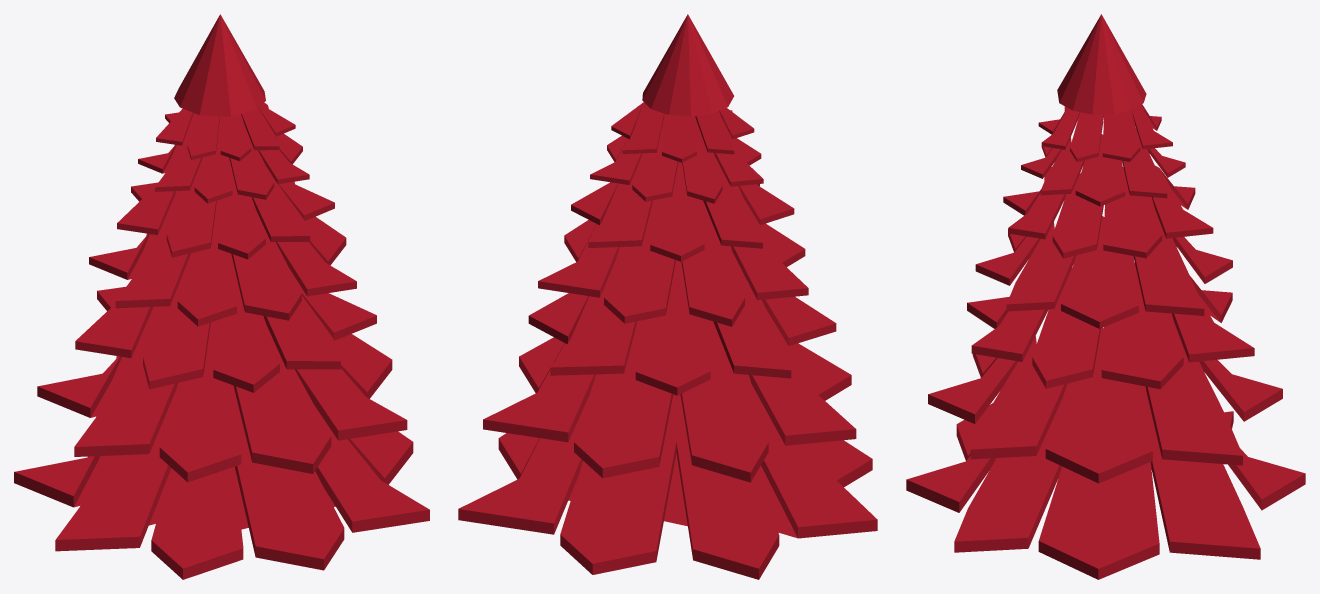
Rendered from tree-dead-leaves-031.glb.
The picture shows the model from 3 angles, left to right: view 1: azimuth 30°, elevation 25°; view 2: azimuth 150°, elevation 25°; view 3: azimuth 270°, elevation 25°; orthographic projection. The views are drawn at different scales.
Visible parts, largest first — view 1: Plane.087_476; view 2: Plane.087_476; view 3: Plane.087_476.
Part boxes in pixels (x1,y1,x2,y2): Plane.087_476: (14,14,429,579); Plane.087_476: (458,14,877,579); Plane.087_476: (906,14,1305,579).
Size of the model in its own units: 1.47 by 1.84 by 1.4.
